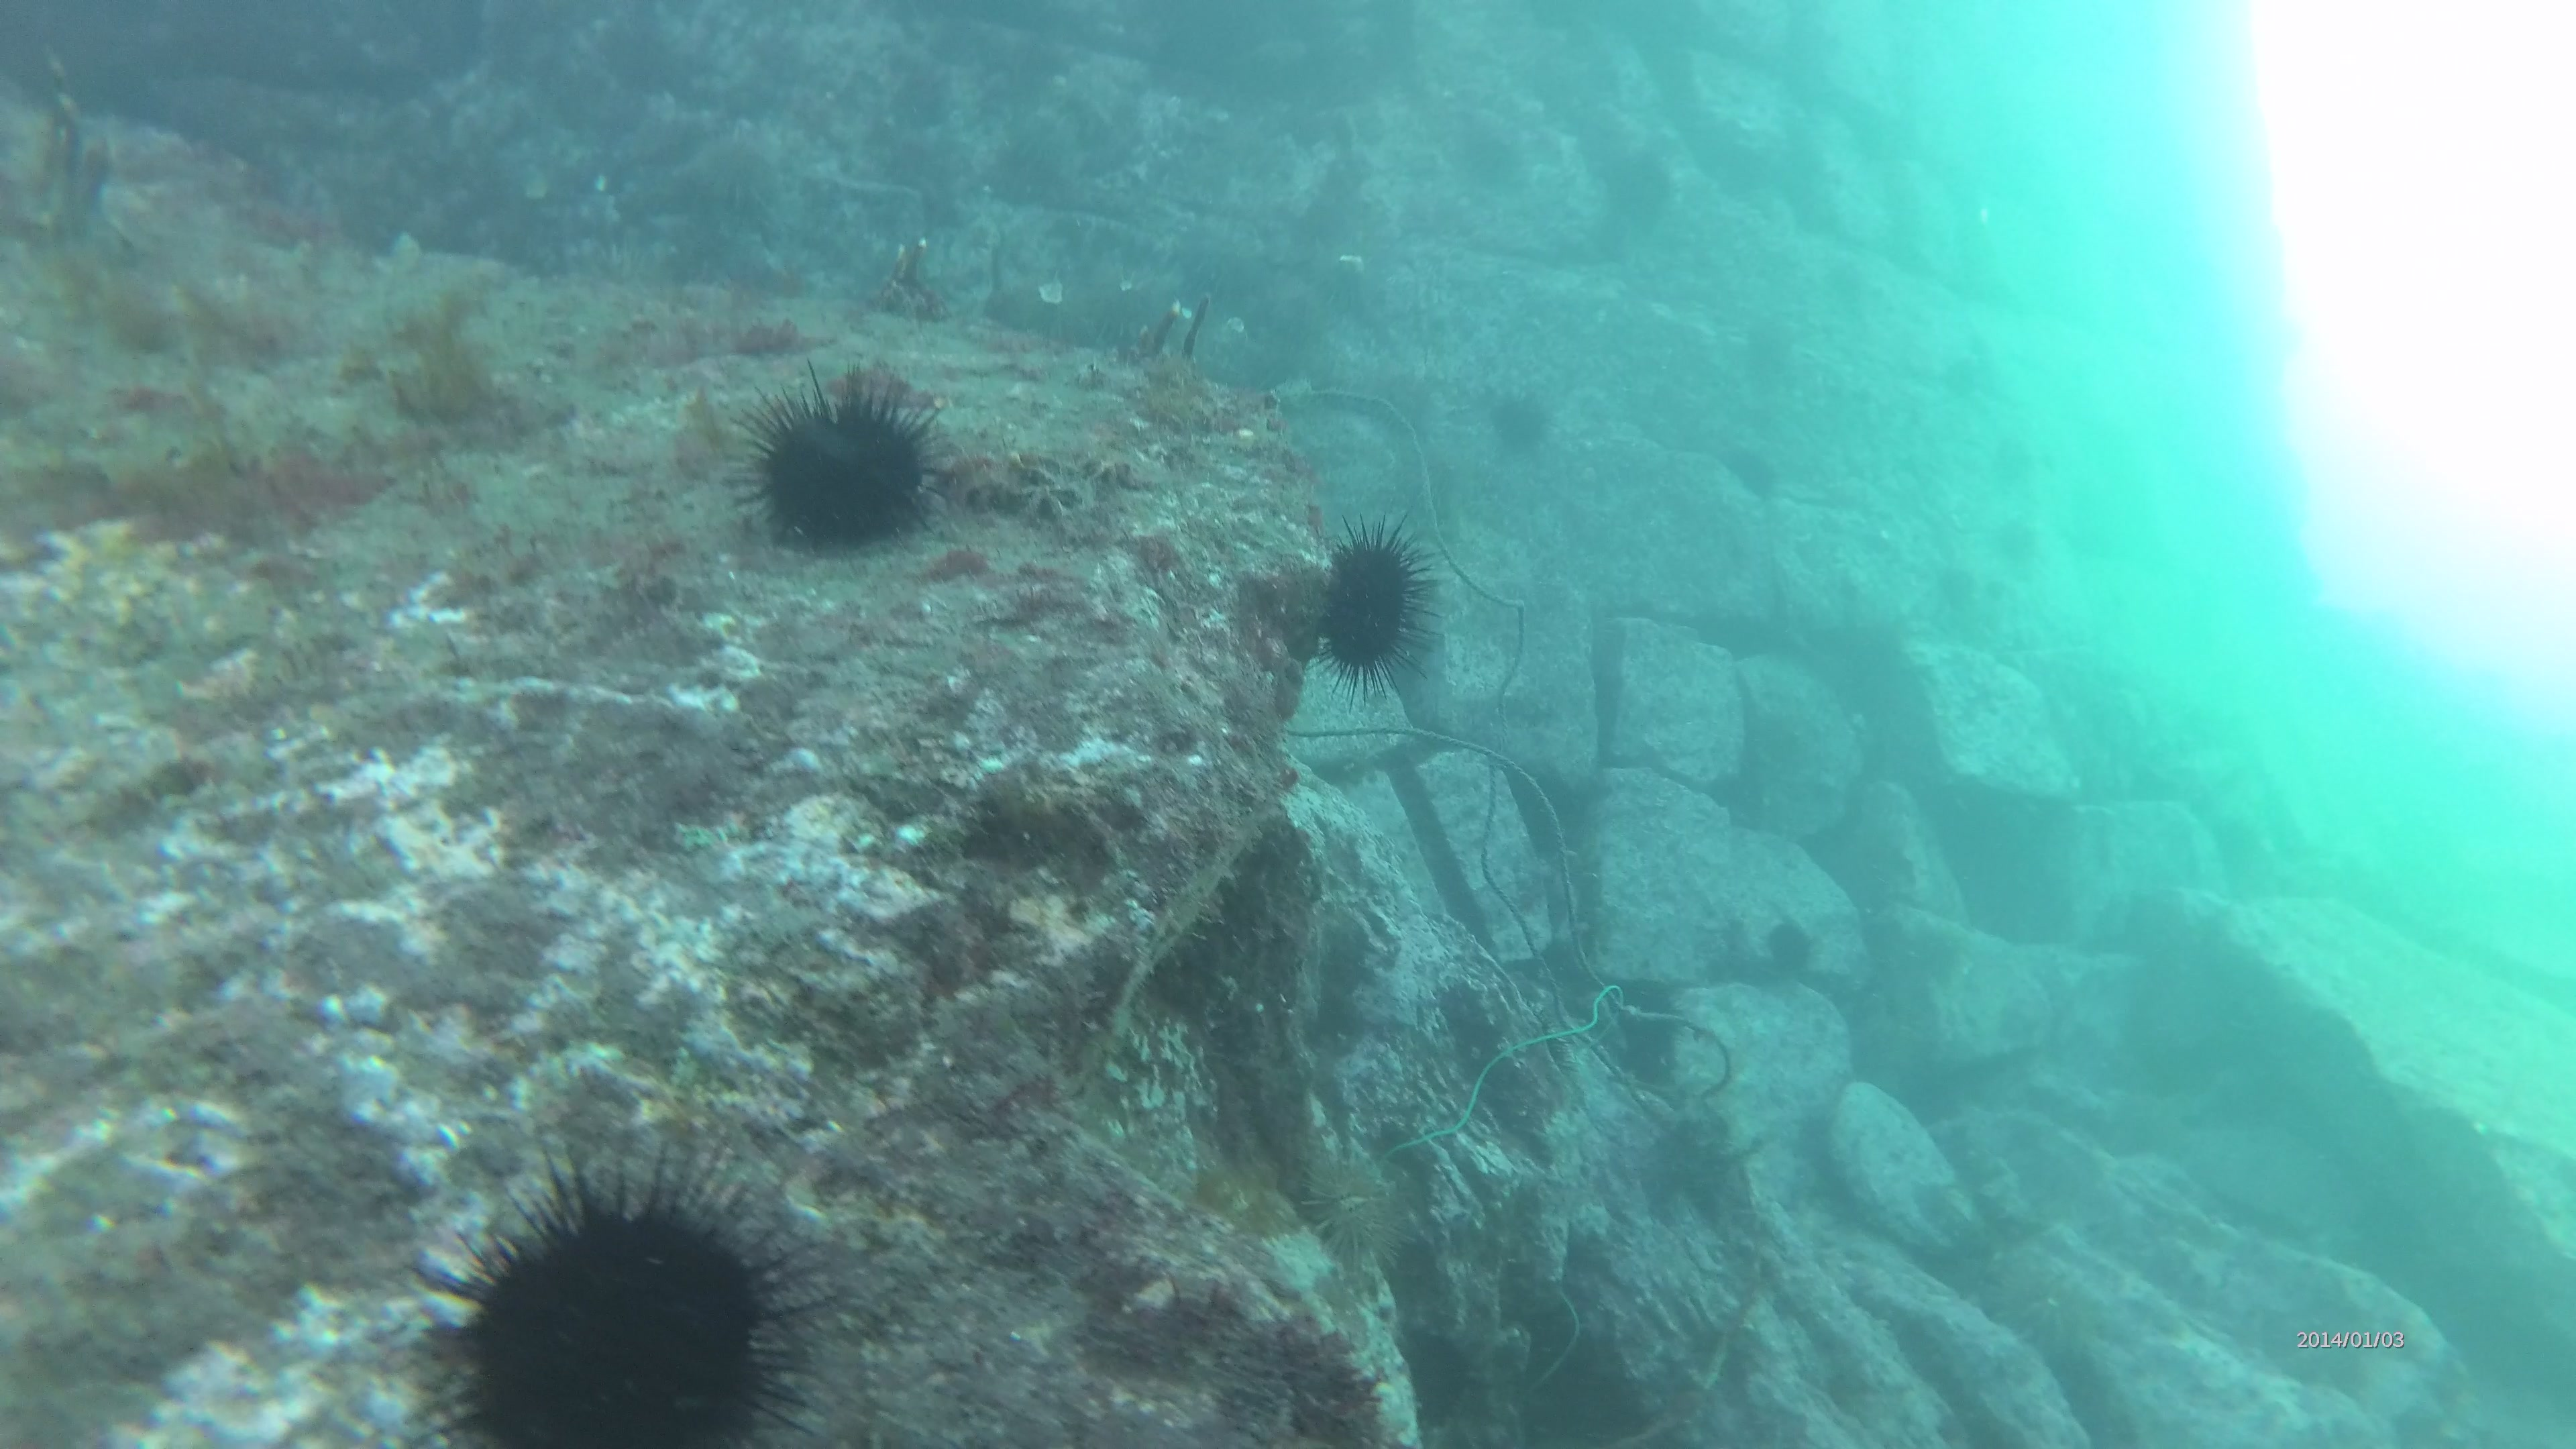echinus: (391, 1155, 833, 1449), (713, 364, 954, 547), (1318, 497, 1451, 706), (1295, 1141, 1407, 1256)
